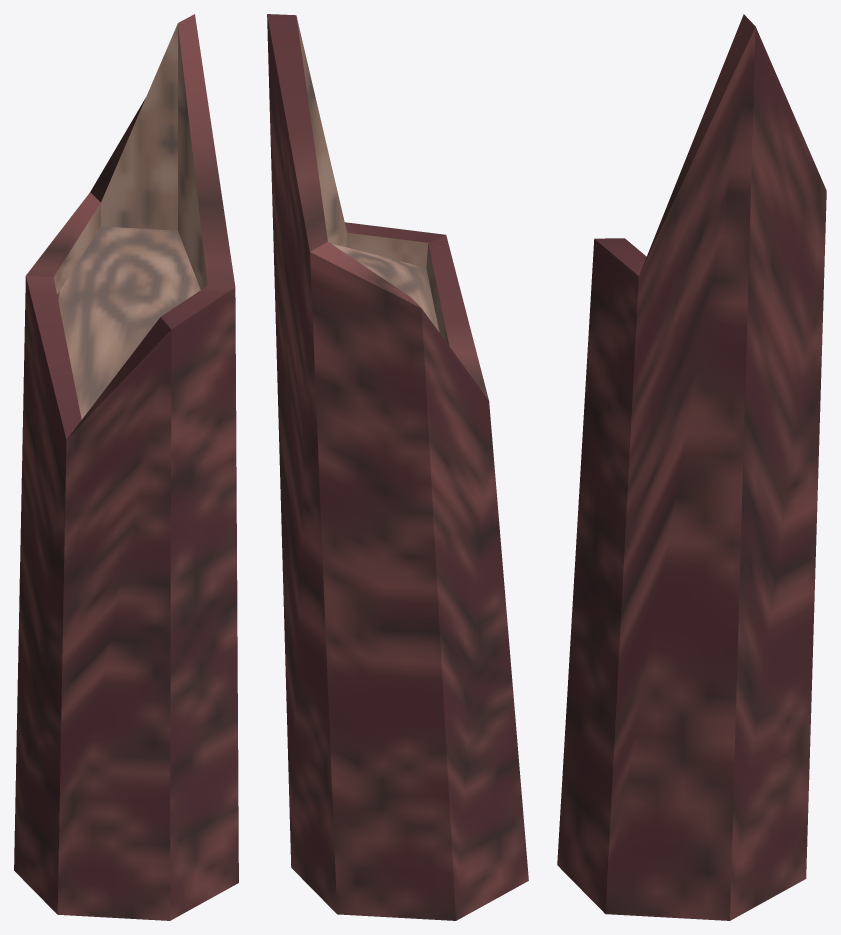
File: trunk_03.fbx
3 renders of one model, left to right at view 1: azimuth 30°, elevation 25°; view 2: azimuth 150°, elevation 25°; view 3: azimuth 270°, elevation 25°, orthographic. The views are drawn at different scales.
Visible parts, largest first — view 1: trunk_03; view 2: trunk_03; view 3: trunk_03.
Boxes of the visible parts, left/top/right/bottom form: trunk_03: left=14, top=14, right=238, bottom=920; trunk_03: left=267, top=14, right=528, bottom=920; trunk_03: left=557, top=14, right=826, bottom=920.
Bounding box in the file's own units: 189 × 762 × 207.
Materials: 1 (1 with a texture image).
